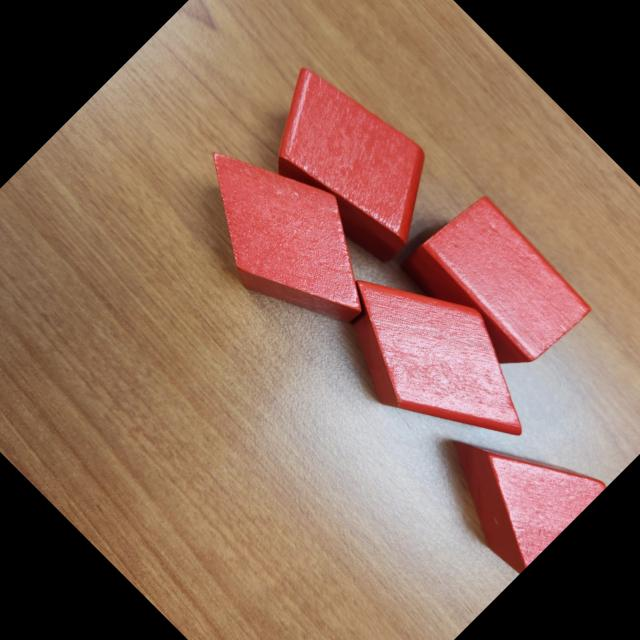red: (304, 233, 564, 493), (156, 109, 410, 363), (234, 44, 464, 274), (394, 180, 598, 384), (420, 386, 612, 579)
